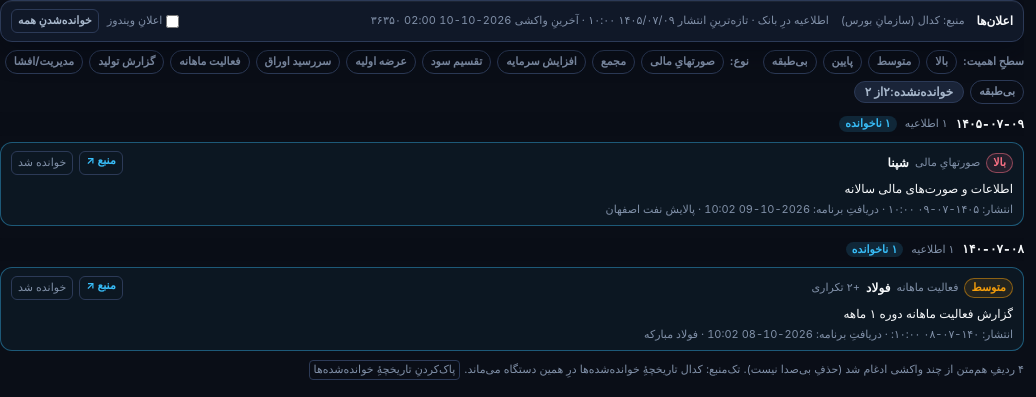
Test: مرکزِ اعلان › «خوانده شد» درِ همین دستگاه می‌ماند و شمارۀِ ناخوانده کم می‌شود
Expected: the number of list items with test id "notice-row" is 2, [0,142,1024,226]; [0,267,1024,351]
What coordinates should you click on to do the following:
click the button with test id "notice-mark" in the row of "شپنا"
I would click on:
 (42, 163)
Its box is [11,151,73,175].
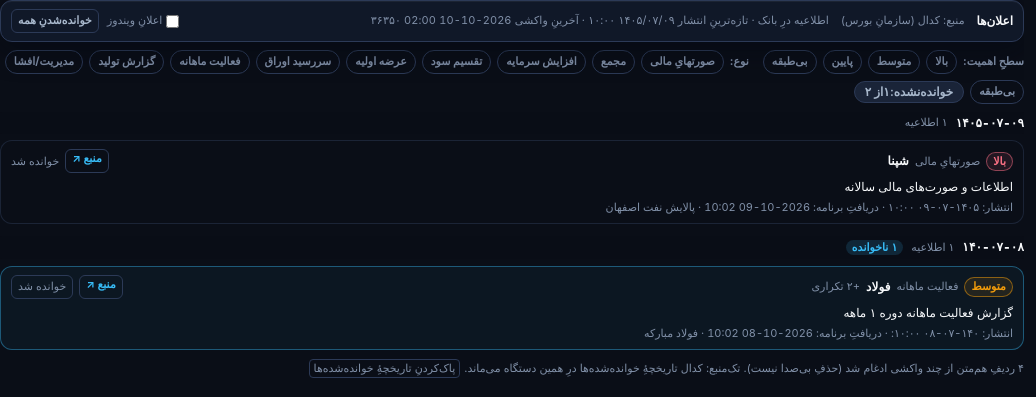
Expected: the number of elements with test id "notice-read-mark" is 1, [11,154,59,168]
